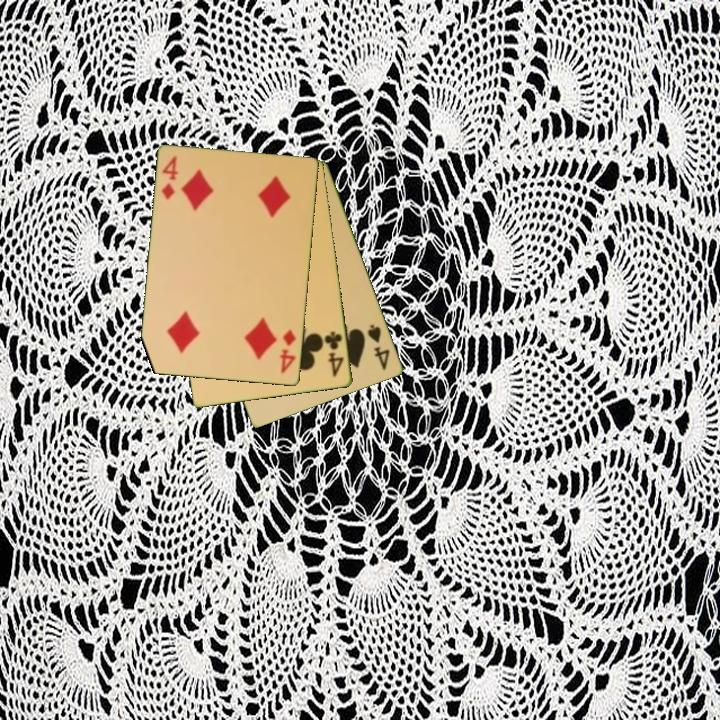4c: (321, 328, 347, 380)
4d: (276, 326, 299, 376), (158, 153, 181, 203)
4s: (364, 321, 393, 373)
